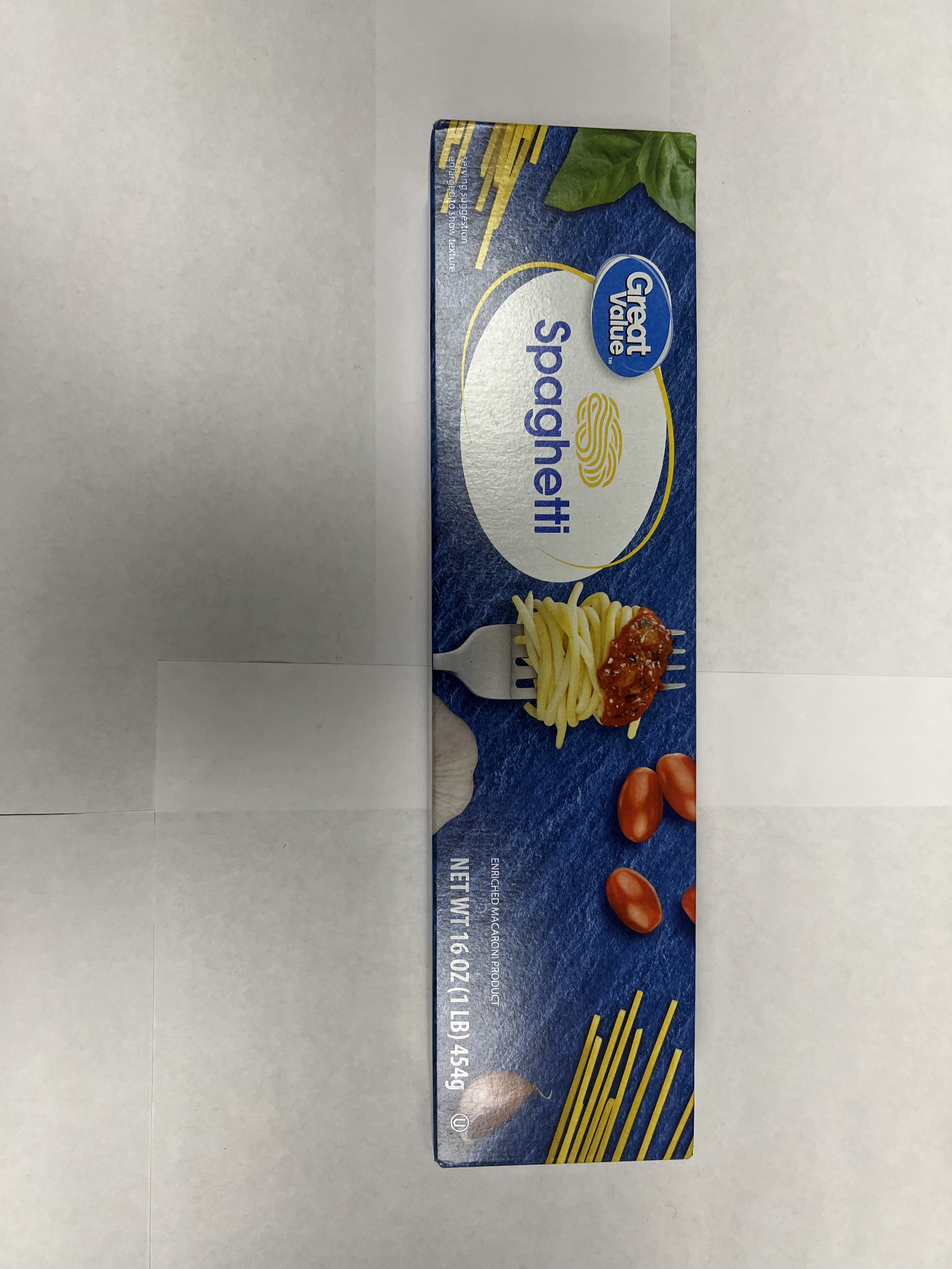packaged: (417, 113, 704, 1170)
